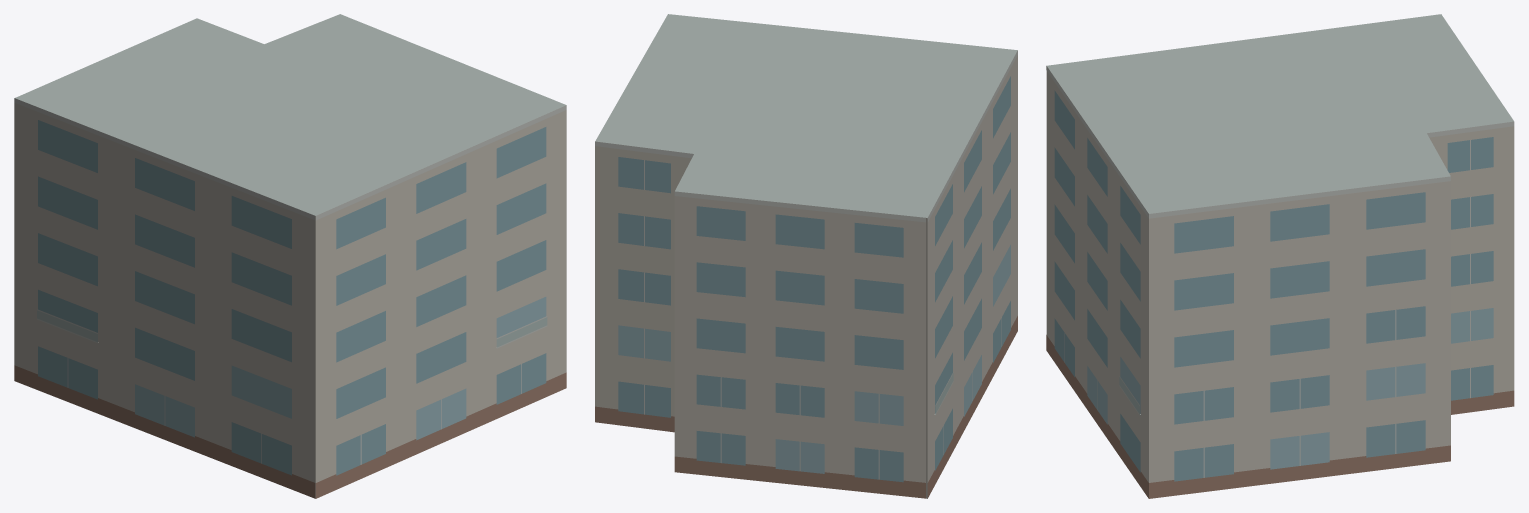
Rendered from survey-upis-32845813.glb.
The picture shows the model from 3 angles, left to right: view 1: azimuth 30°, elevation 25°; view 2: azimuth 150°, elevation 25°; view 3: azimuth 270°, elevation 25°; orthographic projection.
Parts seen in each view (by area): view 1: survey-upis-32845813.tmp; view 2: survey-upis-32845813.tmp; view 3: survey-upis-32845813.tmp.
Part boxes in pixels (x1,y1,x2,y2): survey-upis-32845813.tmp: (14,14,566,498); survey-upis-32845813.tmp: (595,14,1017,498); survey-upis-32845813.tmp: (1046,14,1514,498).
Size of the model in its own units: 22.29 by 14.8 by 22.03.
